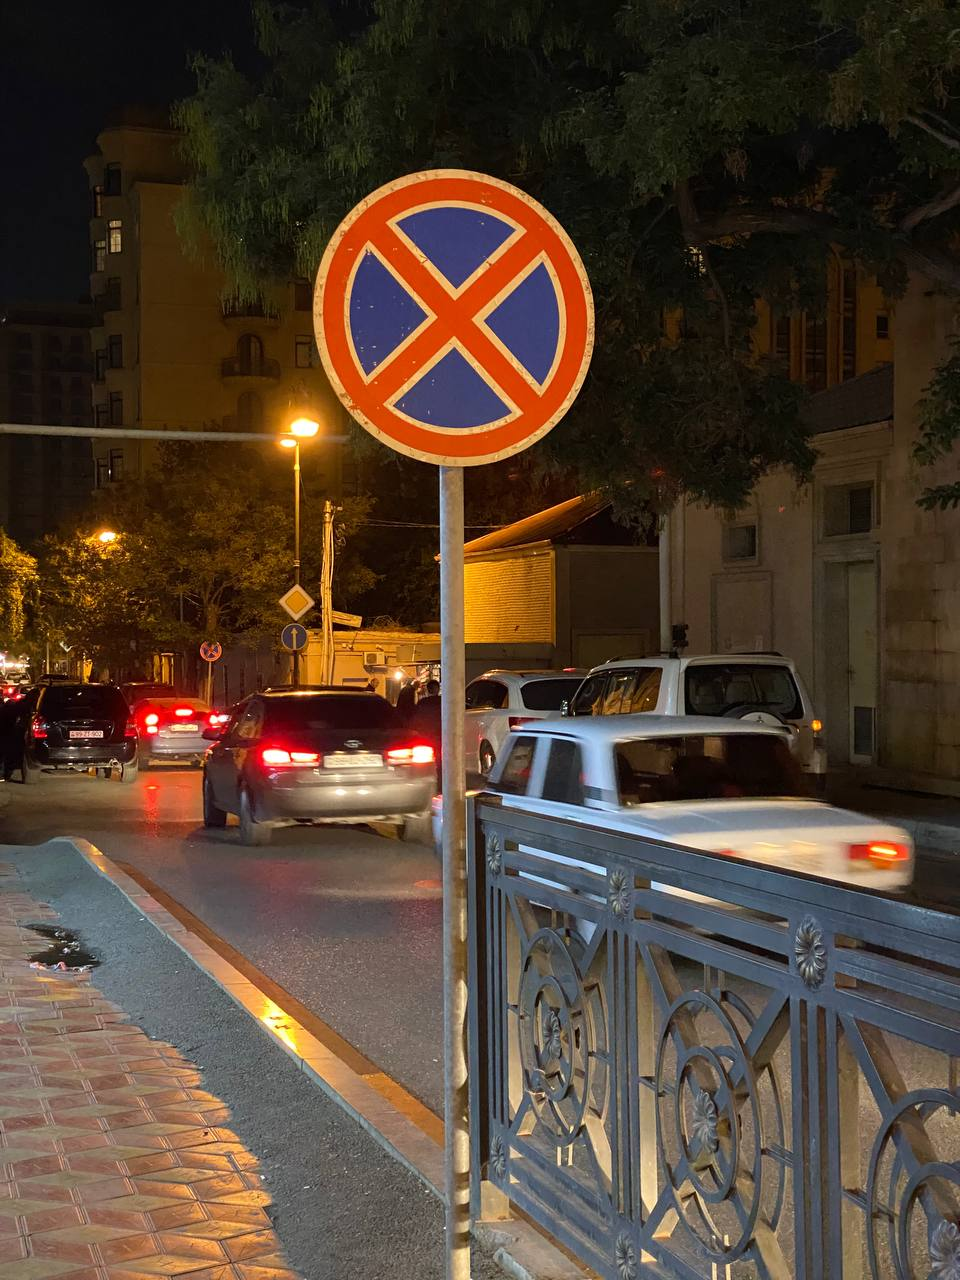No Parking: (313, 169, 595, 467)
